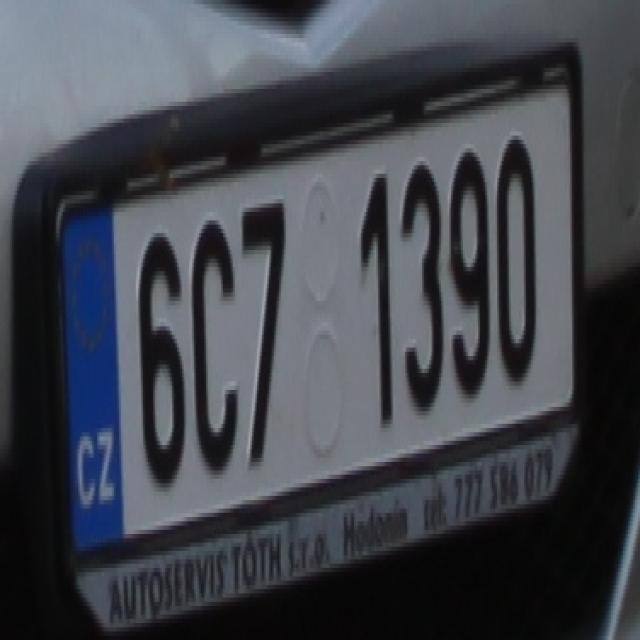0: (495, 123, 536, 381)
1: (359, 161, 395, 428)
3: (398, 144, 443, 428)
6: (131, 221, 184, 500)
7: (238, 182, 284, 470)
9: (448, 136, 492, 415)
C: (189, 212, 237, 475)
